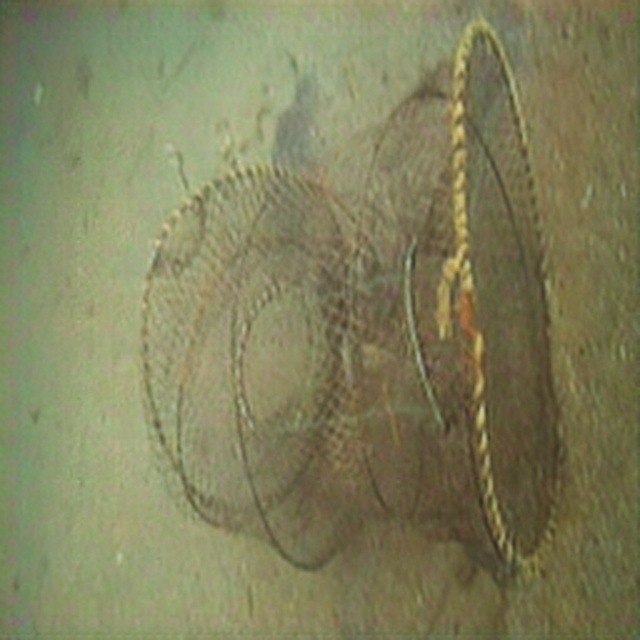mine: (138, 16, 565, 585)
